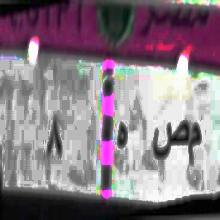8: (44, 110, 65, 170)
haa: (113, 112, 130, 157)
meem: (189, 112, 202, 170)
saad: (150, 113, 188, 168)
